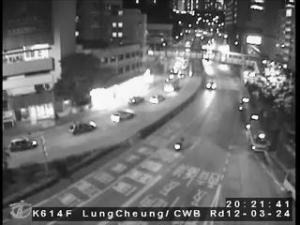bus: (244, 114, 272, 152), (238, 87, 250, 111)
motorbike: (174, 138, 184, 152)
vehicle: (9, 136, 37, 152), (110, 108, 136, 124), (70, 123, 96, 136), (128, 95, 144, 104), (150, 94, 164, 104), (205, 80, 217, 90)
